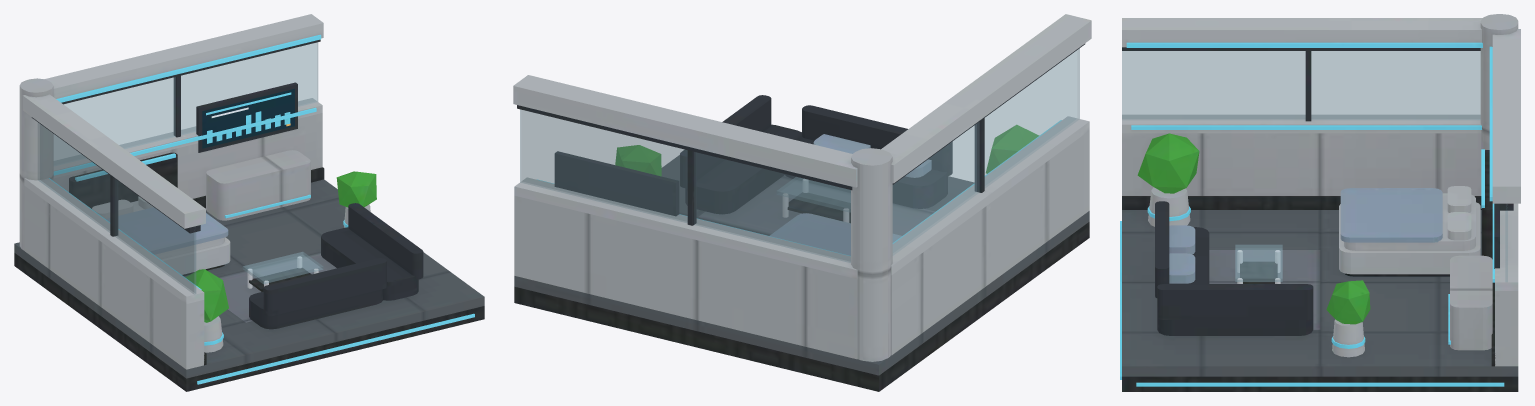
File: enterprise_habitat_t4.glb
3 renders of one model, left to right at view 1: azimuth 30°, elevation 25°; view 2: azimuth 150°, elevation 25°; view 3: azimuth 270°, elevation 25°, orthographic. The views are drawn at different scales.
Parts seen in each view (by area): view 1: te_enterprise_habitat_t4; view 2: te_enterprise_habitat_t4; view 3: te_enterprise_habitat_t4.
Boxes of the visible parts, bbox=[...] form: te_enterprise_habitat_t4: bbox=[14, 14, 484, 391]; te_enterprise_habitat_t4: bbox=[513, 14, 1091, 391]; te_enterprise_habitat_t4: bbox=[1120, 14, 1520, 391].
Size of the model in its own units: 0.849 by 0.492 by 0.849.
2 materials, 1 textured.
